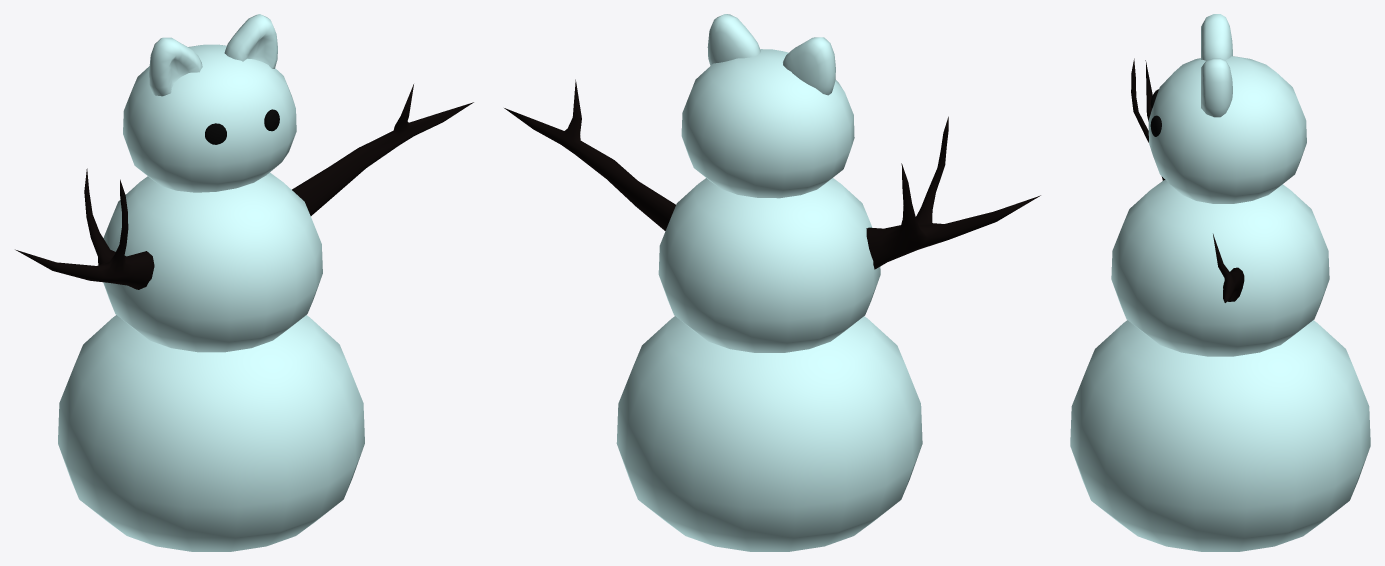
Rendered from SM_Snowcat_Betty.FBX.
3 renders of one model, left to right at view 1: azimuth 30°, elevation 25°; view 2: azimuth 150°, elevation 25°; view 3: azimuth 270°, elevation 25°, orthographic. The views are drawn at different scales.
Visible parts, largest first — view 1: Snowcat_Bottom, Snowcat_Chest, Snowcat_Head, Snowcat_Arm_R, Snowcat_Arm_L, Snowcat_Ear_L, Snowcat_Ear_R; view 2: Snowcat_Bottom, Snowcat_Chest, Snowcat_Head, Snowcat_Arm_L, Snowcat_Arm_R, Snowcat_Ear_L, Snowcat_Ear_R; view 3: Snowcat_Bottom, Snowcat_Chest, Snowcat_Head, Snowcat_Ear_R, Snowcat_Ear_L, Snowcat_Arm_R, Snowcat_Arm_L.
Part boxes in pixels (x1,y1,x2,y2): Snowcat_Bottom: (58, 315, 364, 551); Snowcat_Chest: (103, 172, 322, 352); Snowcat_Head: (123, 44, 296, 192); Snowcat_Arm_R: (292, 84, 473, 215); Snowcat_Arm_L: (15, 168, 154, 289); Snowcat_Ear_L: (149, 37, 202, 96); Snowcat_Ear_R: (224, 14, 277, 68); Snowcat_Bottom: (616, 316, 922, 551); Snowcat_Chest: (658, 178, 880, 352); Snowcat_Head: (681, 49, 854, 198); Snowcat_Arm_L: (866, 116, 1040, 269); Snowcat_Arm_R: (504, 79, 675, 230); Snowcat_Ear_L: (783, 37, 835, 95); Snowcat_Ear_R: (707, 14, 760, 65); Snowcat_Bottom: (1070, 320, 1370, 551); Snowcat_Chest: (1111, 180, 1329, 356); Snowcat_Head: (1148, 56, 1306, 203); Snowcat_Ear_R: (1201, 58, 1232, 117); Snowcat_Ear_L: (1201, 14, 1232, 60); Snowcat_Arm_R: (1213, 234, 1244, 302); Snowcat_Arm_L: (1131, 58, 1165, 180).
Size of the model in its own units: 1.45 by 1.37 by 0.7704.
